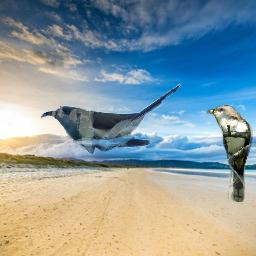Cuckoo: (41, 83, 185, 155), (206, 105, 253, 202)
